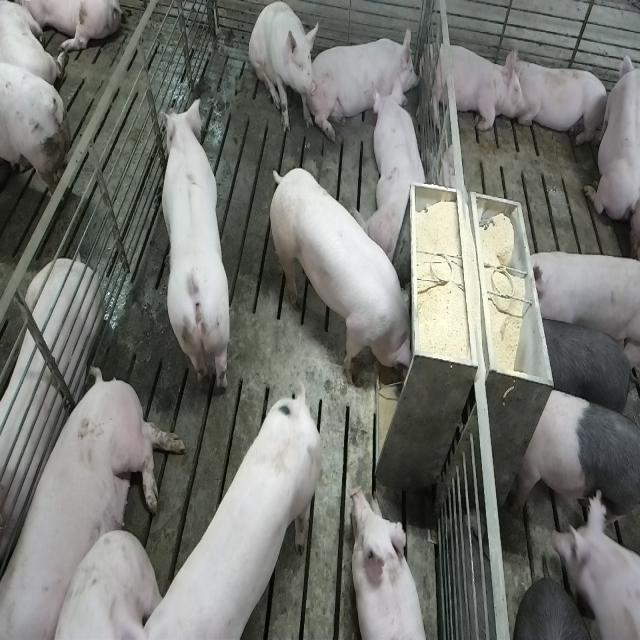Feeding: (273, 166, 421, 389)
Lateral_lying: (3, 362, 187, 636), (0, 256, 103, 592)
Sitting: (249, 2, 319, 137)
Standing: (128, 388, 328, 640), (154, 95, 230, 398), (514, 384, 638, 558), (551, 486, 640, 640), (533, 312, 638, 418), (524, 252, 637, 350)
Sternal_lying: (351, 484, 432, 640), (365, 79, 431, 264), (314, 27, 423, 134), (584, 42, 637, 231), (425, 37, 525, 136), (509, 52, 610, 149)
